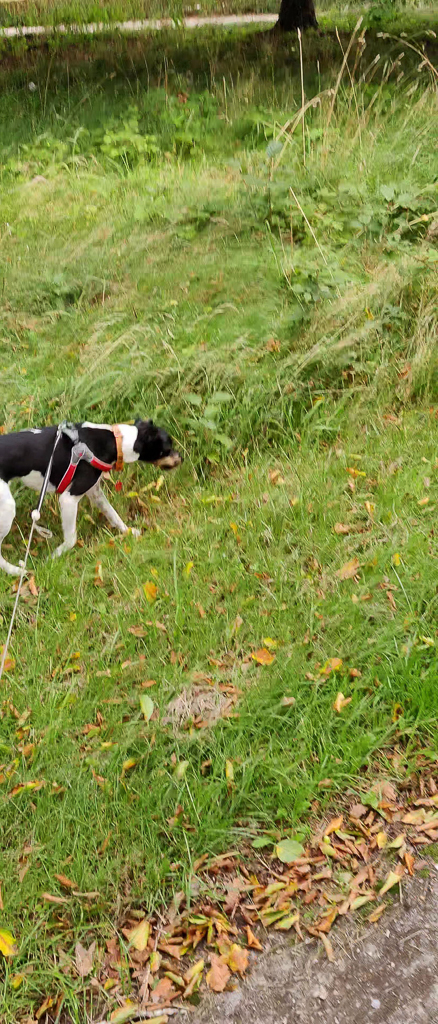Dog: (0, 389, 190, 598)
